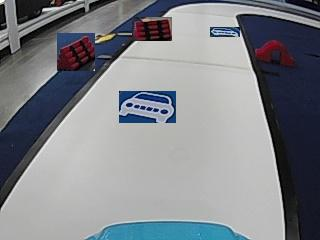bridge: (255, 39, 294, 66)
